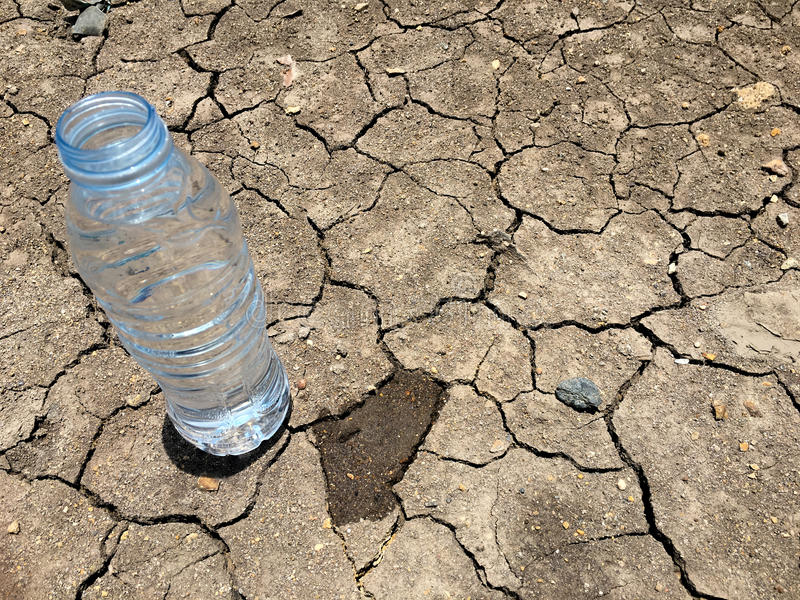bottle: (56, 92, 290, 454)
